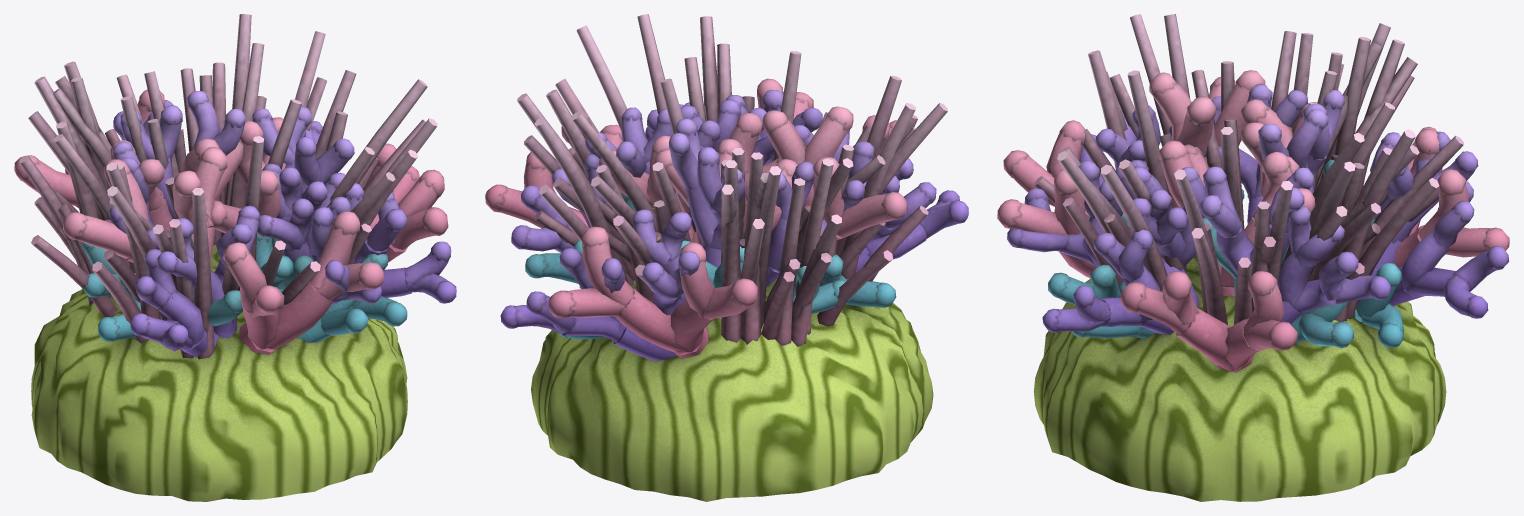
File: corals.glb
3 views of the same model, side by side, from view 1: azimuth 30°, elevation 25°; view 2: azimuth 150°, elevation 25°; view 3: azimuth 270°, elevation 25° (orthographic). The views are drawn at different scales.
Parts seen in each view (by area): view 1: Brain, SwayAnemone, Coral1, Coral0, Coral3; view 2: Brain, SwayAnemone, Coral1, Coral0, Coral3; view 3: Brain, SwayAnemone, Coral1, Coral0, Coral3.
Part boxes in pixels (<box>): Brain: <box>31,244,407,501</box>; SwayAnemone: <box>19,14,437,359</box>; Coral1: <box>109,91,456,356</box>; Coral0: <box>14,89,448,354</box>; Coral3: <box>82,232,407,342</box>; Brain: <box>531,279,933,501</box>; SwayAnemone: <box>517,14,947,346</box>; Coral1: <box>500,89,968,360</box>; Coral0: <box>485,78,907,358</box>; Coral3: <box>525,191,896,339</box>; Brain: <box>1033,229,1446,501</box>; SwayAnemone: <box>1034,14,1463,324</box>; Coral1: <box>1007,83,1509,334</box>; Coral0: <box>997,70,1509,372</box>; Coral3: <box>1048,159,1403,348</box>.
Bounding box in the file's own units: 0.8473 × 0.746 × 0.9136.
Materials: 7 (7 with a texture image).
